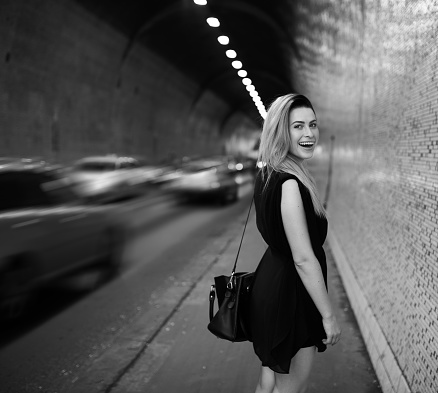em pe: (243, 76, 334, 393)
